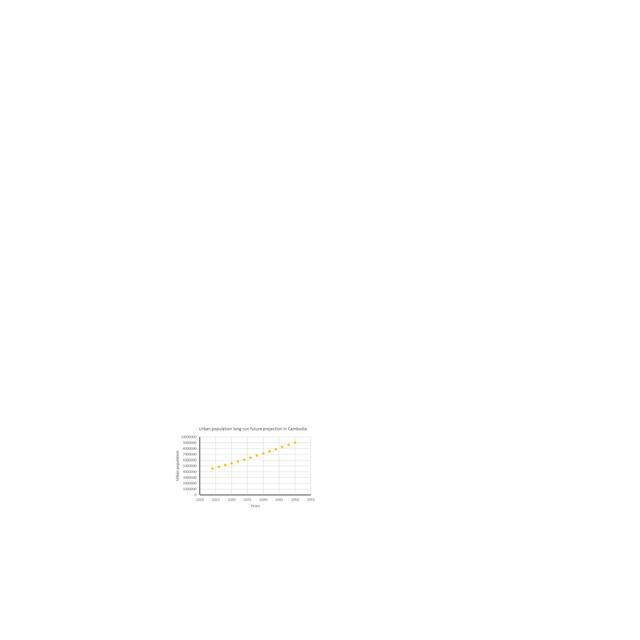Graph: (172, 425, 316, 510)
